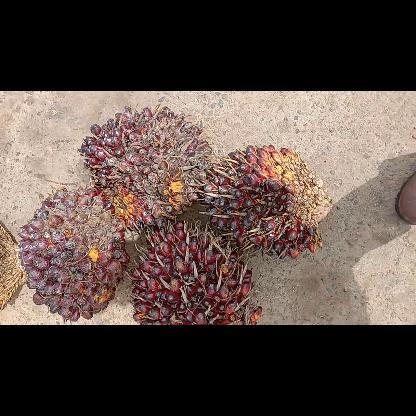Kurang masak: (77, 100, 215, 232), (128, 220, 264, 324)
TBS mentah: (200, 142, 336, 260), (14, 185, 130, 323)
